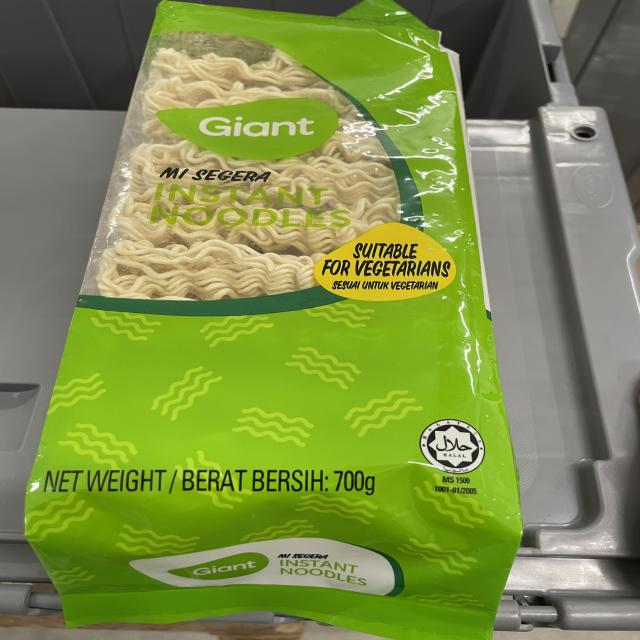object_name: (116, 0, 488, 633)
